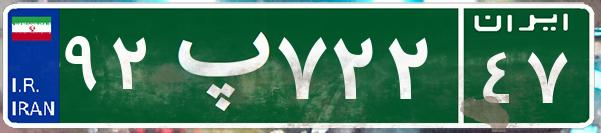2: (385, 28, 445, 110), (330, 28, 385, 110), (110, 28, 158, 105)
4: (475, 38, 525, 113)
7: (273, 28, 330, 110), (525, 38, 570, 115)
9: (57, 26, 110, 107)
پ: (158, 15, 273, 115)
